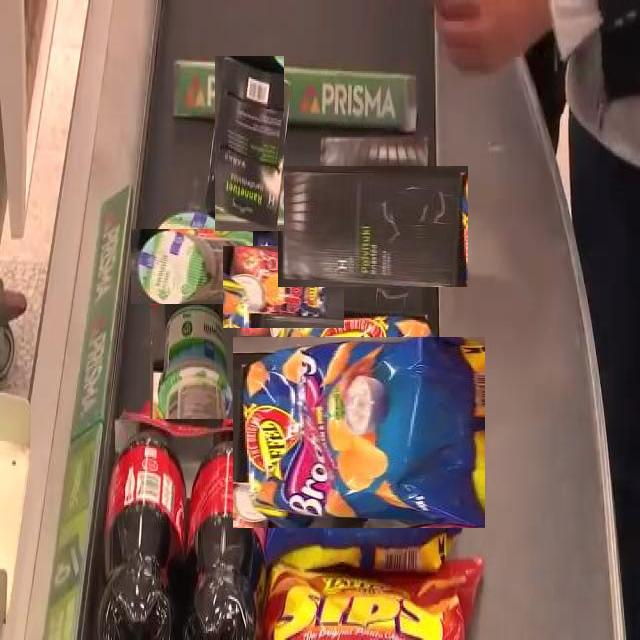beverage: (94, 402, 195, 640), (174, 407, 271, 633)
food-box: (248, 321, 470, 543), (261, 542, 480, 635), (149, 294, 237, 419), (143, 216, 242, 316)
utility-box: (295, 148, 451, 304), (214, 55, 284, 231), (232, 236, 334, 338)
